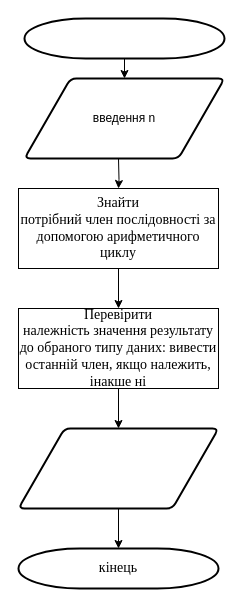
Image size: 242x606. Some labels were removed from this diagram. The shapes that lost their labels are listed below. From the top down, each one's box as (x1, y1, x2, y2) in pixels, then its label:
(23, 17, 225, 59): початок
(17, 427, 219, 509): виведення vn
